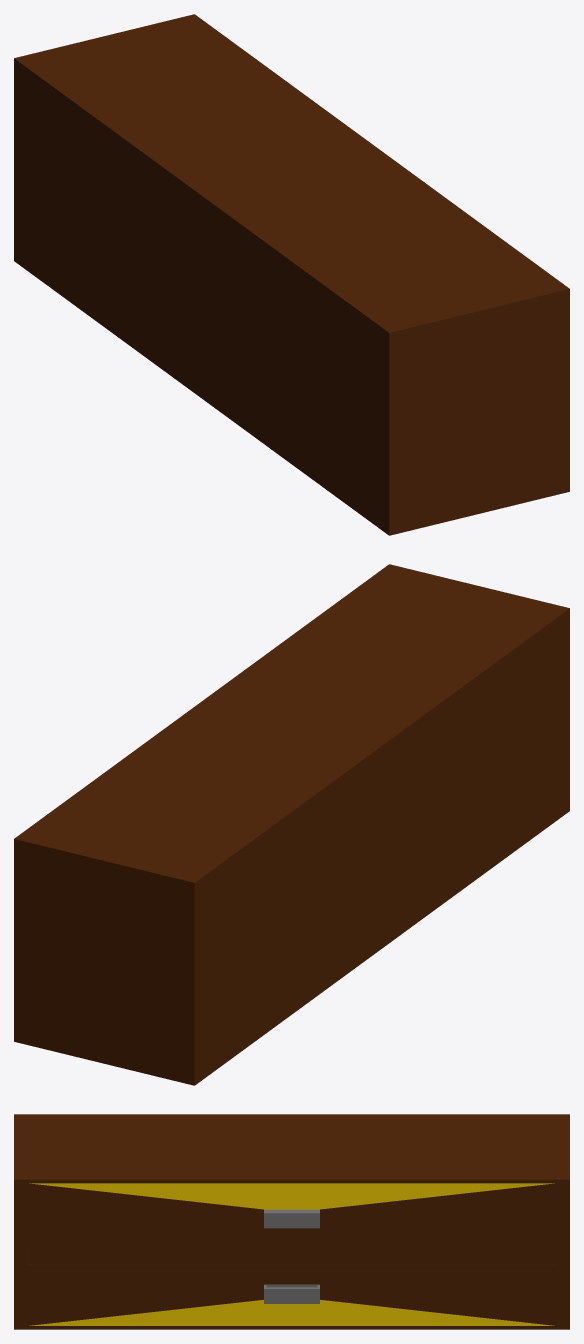
File: Dresser.glb
3 views of the same model, one above another, from view 1: azimuth 30°, elevation 25°; view 2: azimuth 150°, elevation 25°; view 3: azimuth 270°, elevation 25° (orthographic). The views are drawn at different scales.
Parts seen in each view (by area): view 1: Cube-col; view 2: Cube-col; view 3: Cube-col.
Part boxes in pixels (<box>): Cube-col: <box>14,14,569,535</box>; Cube-col: <box>14,564,569,1085</box>; Cube-col: <box>14,1114,569,1329</box>.
Size of the model in its own units: 1.01 by 1.01 by 3.4.
